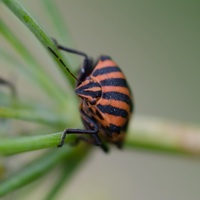insect: (53, 39, 132, 147)
